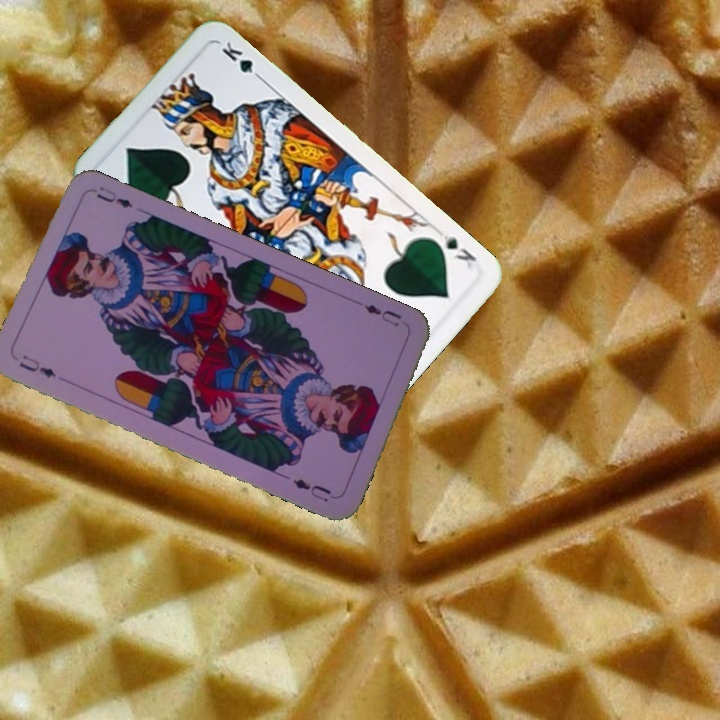EU: (360, 300, 405, 330), (15, 351, 59, 381)
GK: (440, 230, 480, 274)
